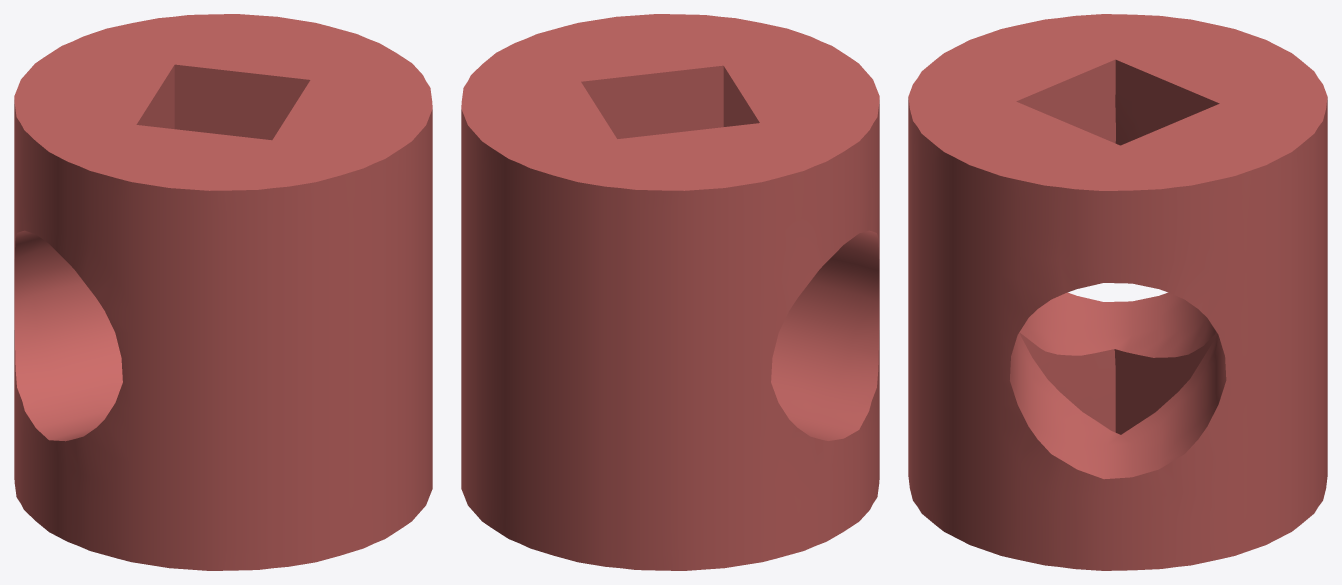
The model's file is var_15.glb.
The picture shows the model from 3 angles, left to right: view 1: azimuth 30°, elevation 25°; view 2: azimuth 150°, elevation 25°; view 3: azimuth 270°, elevation 25°; orthographic projection.
Visible parts, largest first — view 1: Cylinder; view 2: Cylinder; view 3: Cylinder.
Part boxes in pixels (<box>): Cylinder: <box>14,14,432,570</box>; Cylinder: <box>461,14,879,570</box>; Cylinder: <box>908,14,1327,570</box>.
Size of the model in its own units: 2 by 2 by 2.
